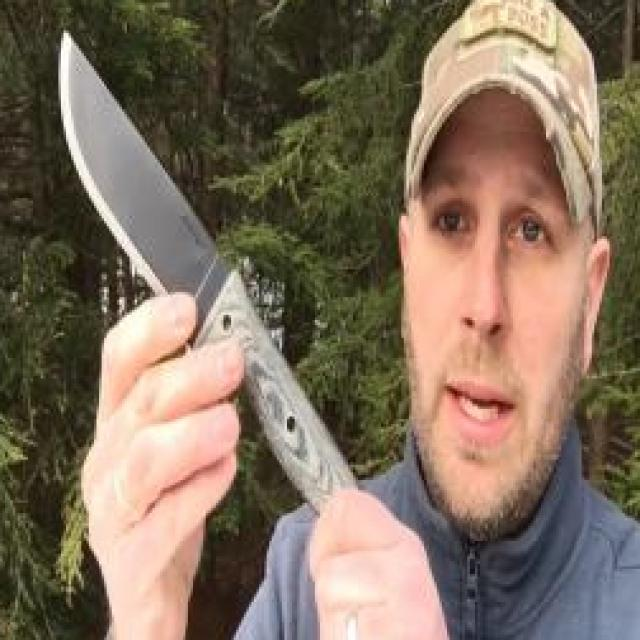knife: (51, 21, 269, 407)
